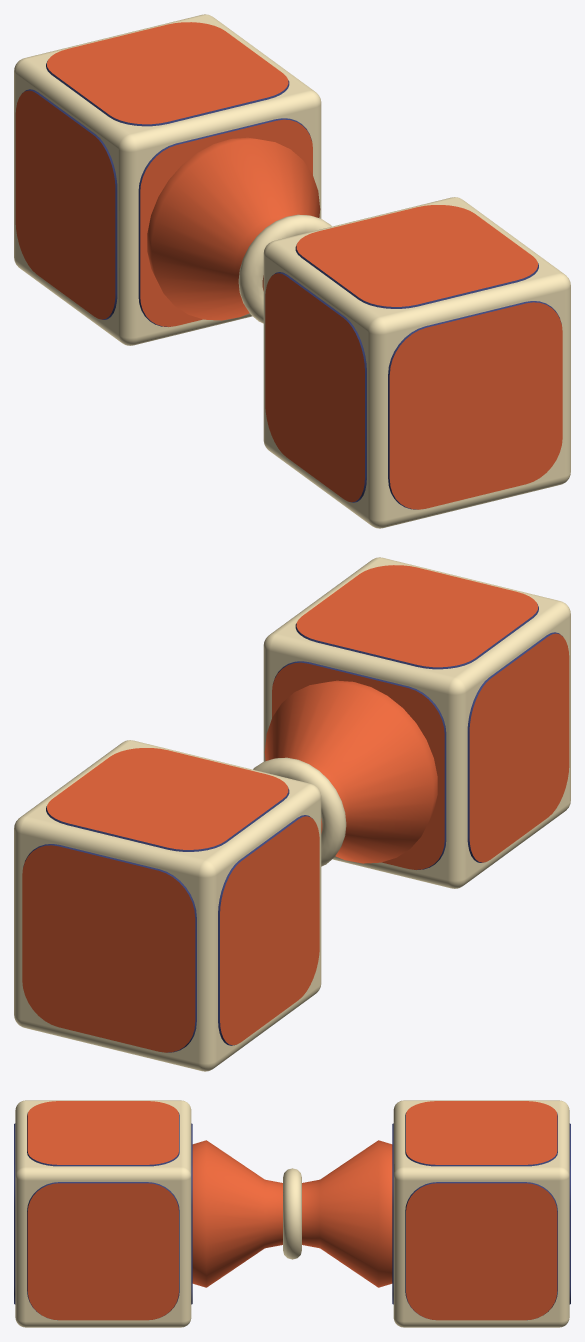
Rendered from R4C_STRUT_STANDARD.fbx.
3 renders of one model, top to bottom at view 1: azimuth 30°, elevation 25°; view 2: azimuth 150°, elevation 25°; view 3: azimuth 270°, elevation 25°, orthographic. The views are drawn at different scales.
Visible parts, largest first — view 1: R4C_STRUT_STANDARD; view 2: R4C_STRUT_STANDARD; view 3: R4C_STRUT_STANDARD.
Boxes of the visible parts, x1,y1,x2,y2 form: R4C_STRUT_STANDARD: [14, 14, 570, 528]; R4C_STRUT_STANDARD: [14, 557, 570, 1071]; R4C_STRUT_STANDARD: [14, 1100, 570, 1327].
Size of the model in its own units: 0.52 by 0.52 by 1.62.
